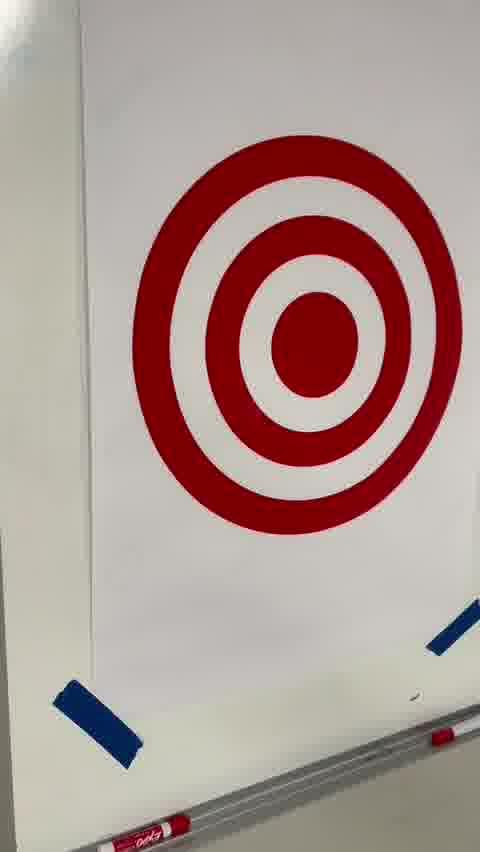target_red: (132, 133, 461, 537)
